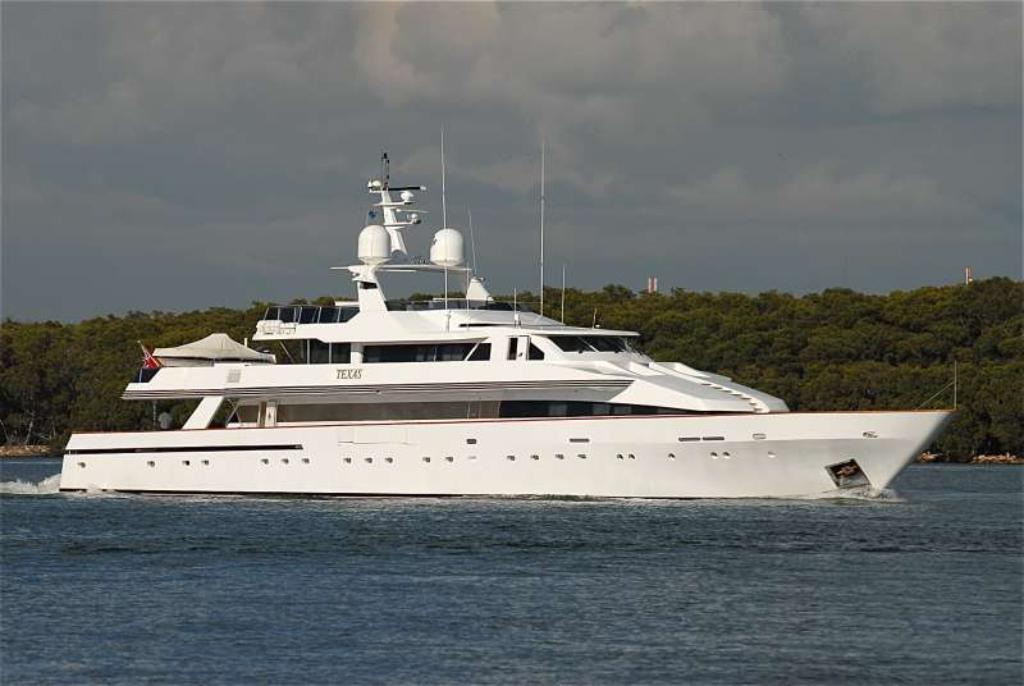PassengerShip: (55, 122, 963, 504)
